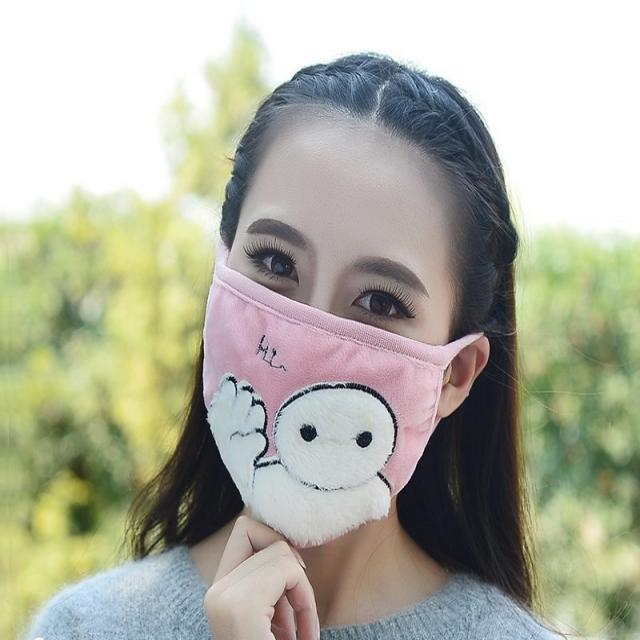mask: (208, 132, 456, 504)
